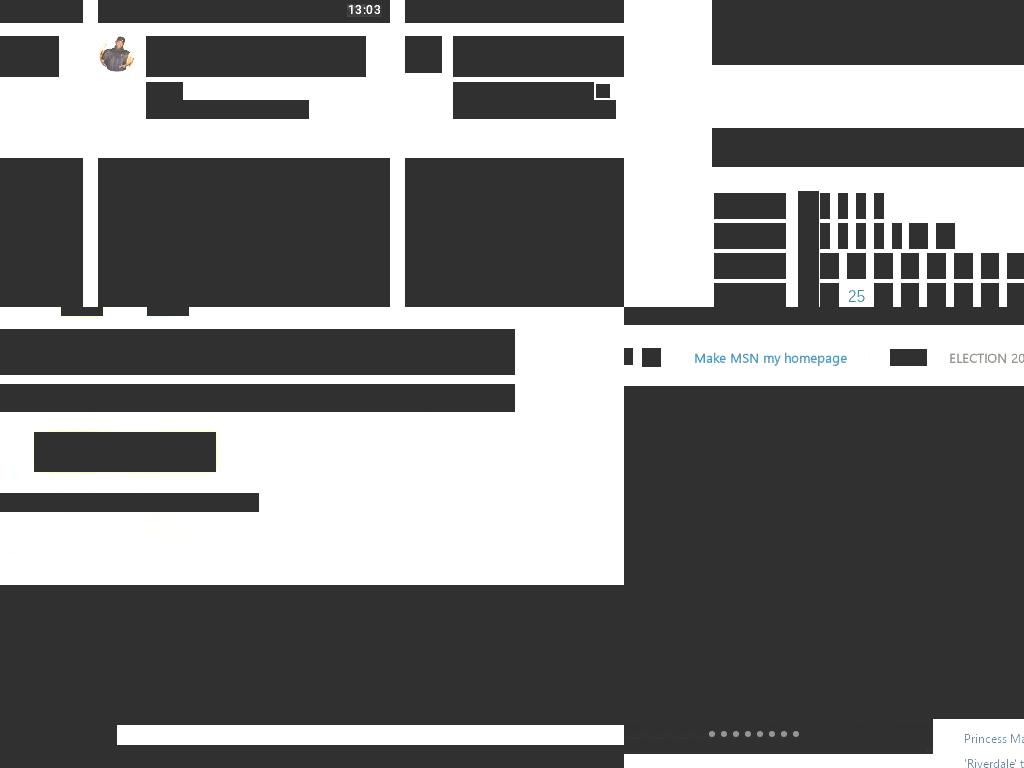button: (624, 386, 933, 553), (624, 553, 933, 720), (98, 158, 390, 307), (405, 158, 624, 307), (932, 386, 1024, 719), (0, 158, 83, 307), (146, 36, 366, 77), (34, 432, 216, 472), (453, 36, 624, 77), (453, 82, 594, 101), (0, 36, 59, 77), (714, 193, 786, 219), (714, 223, 786, 249), (714, 253, 786, 279), (714, 283, 786, 307), (98, 36, 135, 73), (405, 36, 442, 73), (963, 705, 1024, 721), (963, 730, 1024, 746), (963, 755, 1024, 768), (146, 82, 183, 101), (909, 223, 928, 249), (936, 223, 955, 249), (820, 253, 839, 279), (847, 253, 866, 279), (874, 253, 893, 279), (927, 253, 946, 279), (954, 253, 973, 279), (901, 253, 919, 279), (981, 253, 999, 279), (820, 283, 839, 307), (847, 283, 866, 307), (874, 283, 893, 307), (927, 283, 946, 307), (954, 283, 973, 307), (1007, 253, 1024, 279), (901, 283, 919, 307), (981, 283, 999, 307), (1007, 283, 1024, 307), (642, 348, 661, 367), (820, 193, 830, 219), (838, 193, 848, 219), (856, 193, 866, 219), (874, 193, 884, 219), (820, 223, 830, 249), (838, 223, 848, 249), (856, 223, 866, 249), (874, 223, 884, 249), (892, 223, 902, 249)
heading: (0, 329, 515, 375), (712, 128, 1024, 167), (146, 36, 366, 77), (453, 36, 624, 77), (60, 625, 312, 650), (331, 625, 583, 650), (693, 349, 847, 366), (0, 36, 59, 77), (963, 661, 1024, 698), (962, 408, 1014, 425)
iframe: (954, 386, 1024, 636)
image: (624, 386, 933, 552), (624, 553, 933, 719), (60, 585, 371, 725), (98, 158, 390, 307), (331, 585, 624, 725), (405, 158, 624, 307), (932, 386, 1024, 719), (0, 158, 83, 307), (98, 36, 135, 73), (405, 36, 442, 73), (61, 307, 103, 316), (147, 307, 189, 316), (952, 700, 969, 716), (596, 84, 610, 98), (624, 731, 631, 737), (636, 731, 643, 737), (648, 731, 655, 737), (660, 731, 667, 737), (672, 731, 679, 737), (684, 731, 691, 737), (696, 731, 703, 737), (708, 731, 715, 737), (720, 731, 727, 737), (732, 731, 739, 737), (744, 731, 751, 737), (756, 731, 763, 737), (768, 731, 775, 737), (780, 731, 787, 737), (792, 731, 799, 737)
link: (0, 493, 259, 512), (948, 349, 1024, 366), (890, 349, 927, 366)
text: (712, 0, 1024, 65), (0, 384, 515, 412), (641, 481, 872, 535), (641, 667, 856, 721), (60, 655, 312, 676), (331, 655, 583, 676), (952, 637, 1024, 690), (146, 100, 230, 119), (453, 100, 537, 119), (229, 100, 309, 119), (536, 100, 616, 119), (974, 700, 1021, 715), (798, 220, 819, 251), (798, 250, 819, 281), (798, 191, 819, 221), (818, 517, 857, 532), (798, 280, 819, 307), (347, 4, 382, 17), (862, 703, 886, 718), (48, 4, 75, 17), (624, 348, 633, 365), (48, 303, 75, 307), (355, 303, 382, 307)
